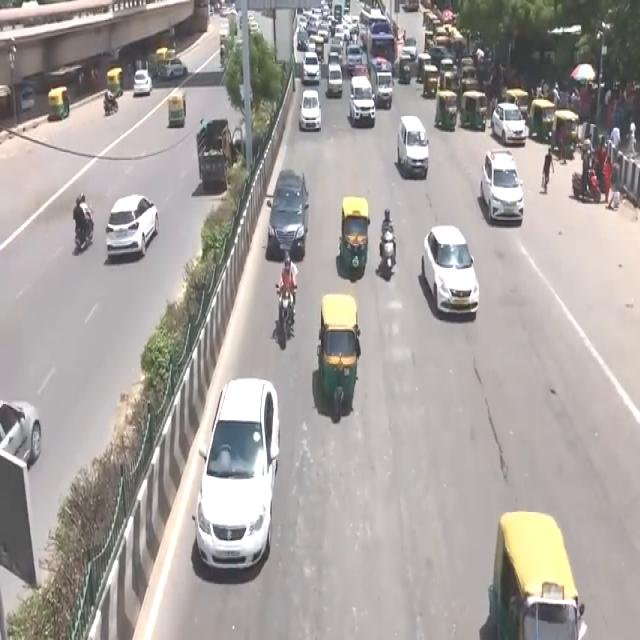MOTORCYCLE: (278, 289, 295, 352), (380, 232, 397, 282)
